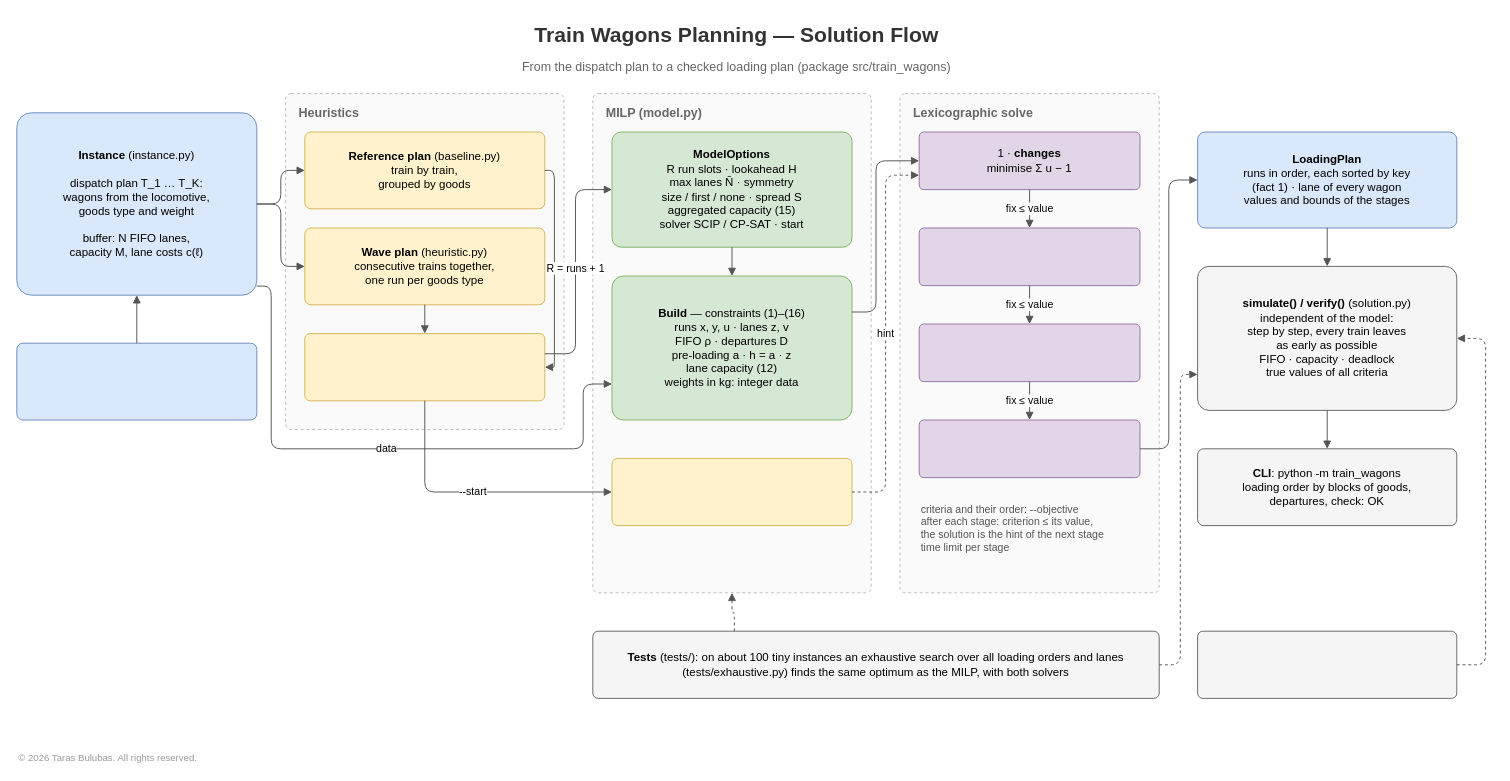
Image size: 1510x781. Some labels were removed from this diagram. Here are the shapes that lost their labels. From the top down, the centre of each, then its label:
At (1029,256): "2 · lanes minimise Σ v".
At (424,367): "best heuristic plan fewest changes, obeys H, S and N̄".
At (1029,352): "3 · waiting (or peak ) minimise the wagons held".
At (136,381): "random_instance generator: K, wagons per train, goods types, heavy share, N, M".
At (1029,448): "4 · priority minimise Σ c(ℓ) · z".
At (731,491): "start hint x, y, u, z, v of the heuristic plan".
At (1327,664): "Benchmark : scripts/benchmark.py grid K × λ → docs/benchmark.md".
